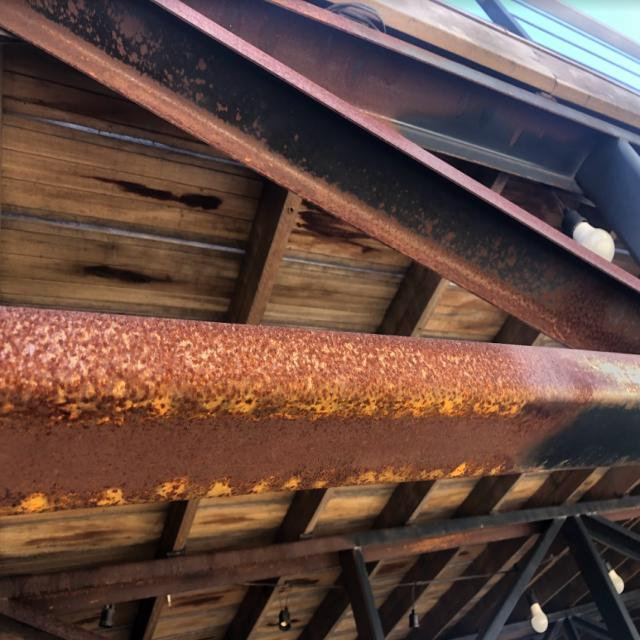corrosion: (0, 0, 640, 517), (0, 517, 533, 640)
